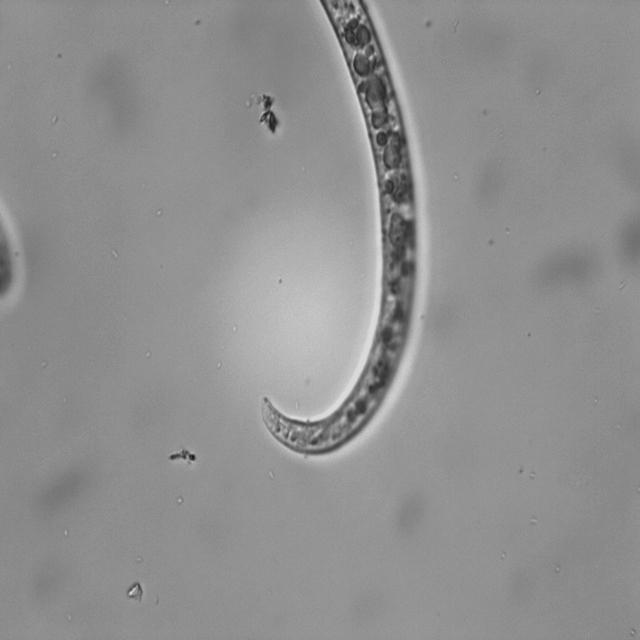Helicotylenchus: (248, 0, 434, 461)
